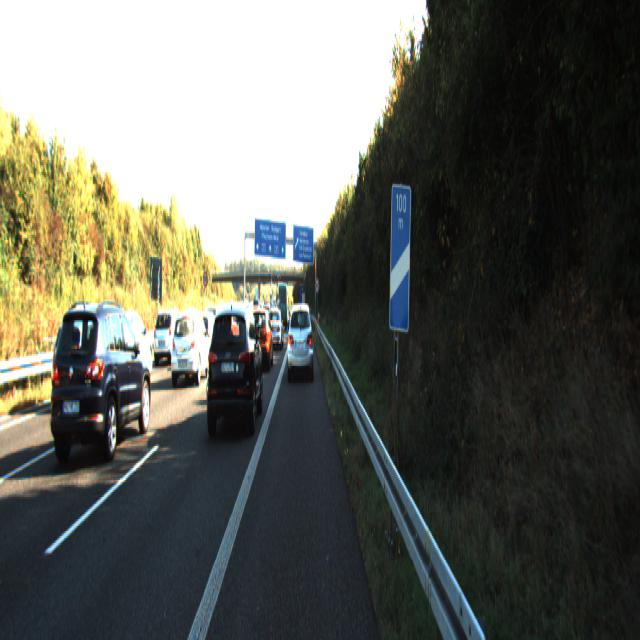Car: (46, 298, 150, 471), (205, 300, 264, 442), (169, 311, 211, 387), (287, 300, 314, 380), (152, 306, 187, 365), (246, 307, 274, 372), (266, 310, 284, 352), (278, 284, 289, 332)
